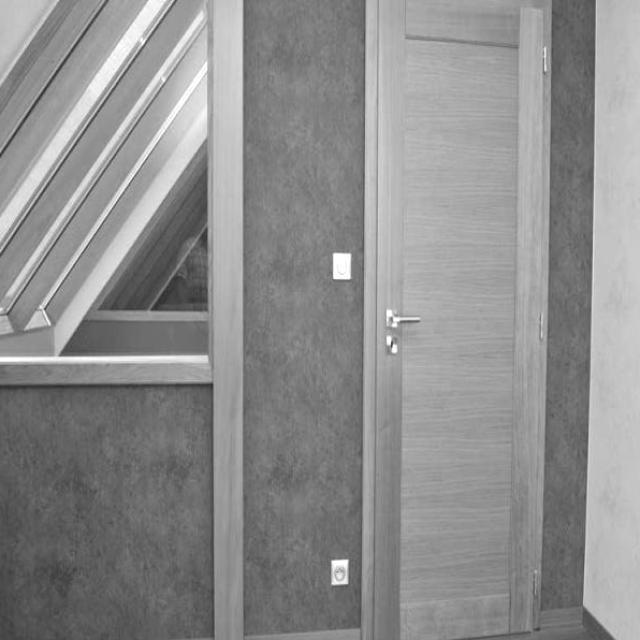door: (373, 1, 546, 640)
